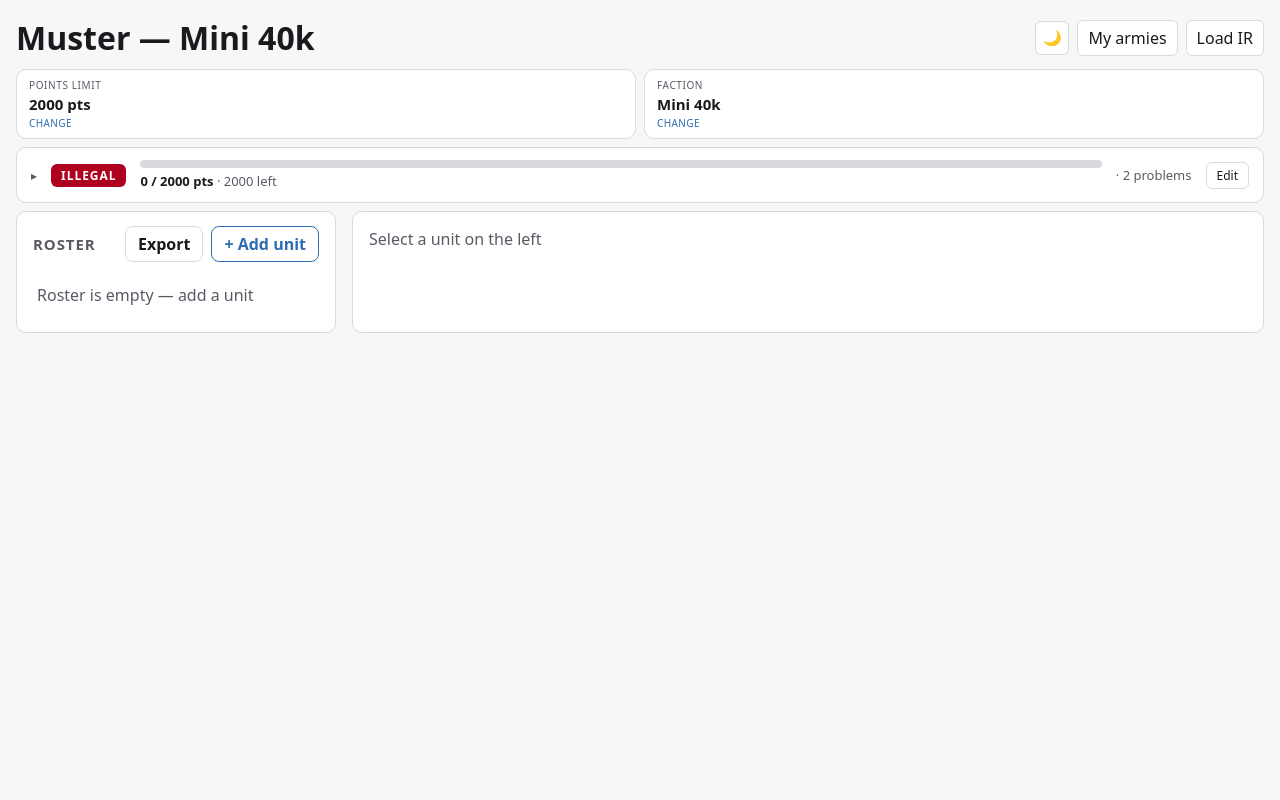
it: App › opens the faction step showing at least the bundled faction
Note: Open the wizard at the faction step via the setup bar faction chip.
Click the text "Faction" at (680, 85), box left=657, top=78, right=703, bottom=92
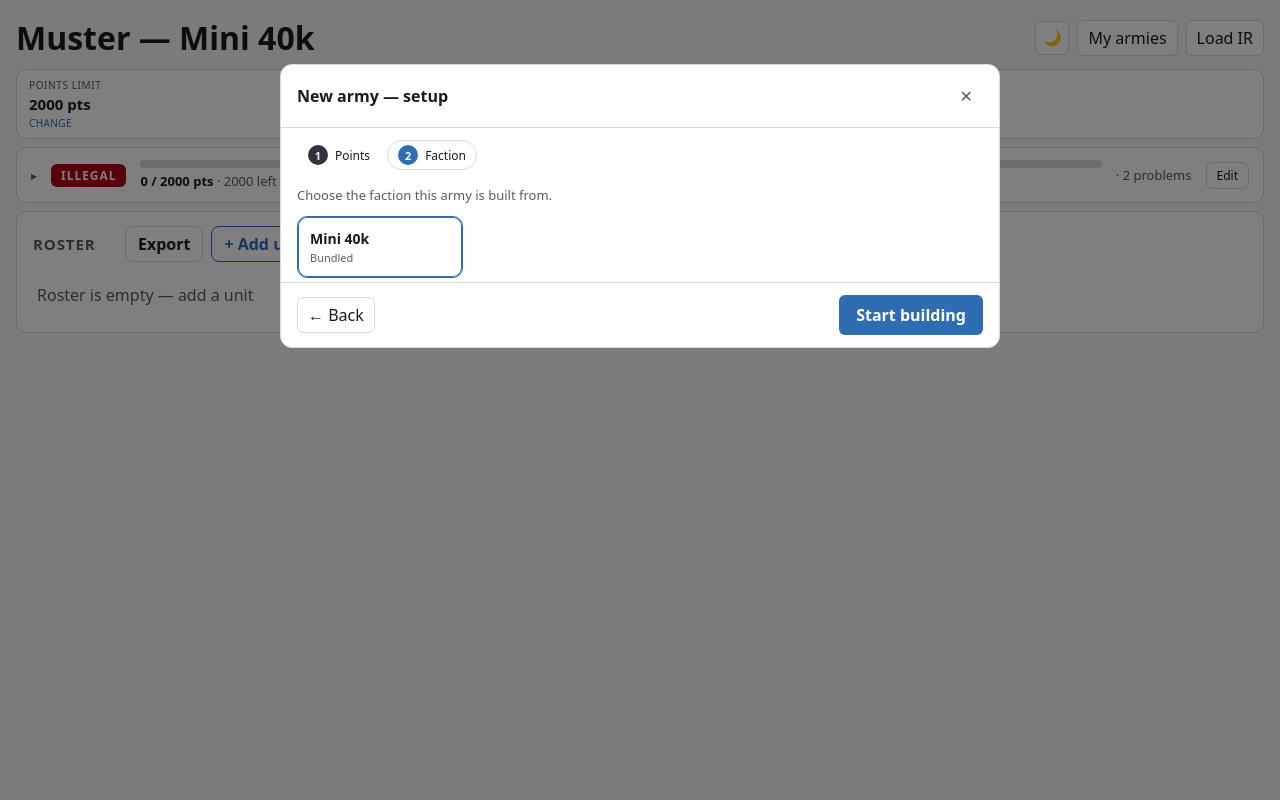
Now the text "Mini 40k" is shown, box left=310, top=229, right=369, bottom=248
